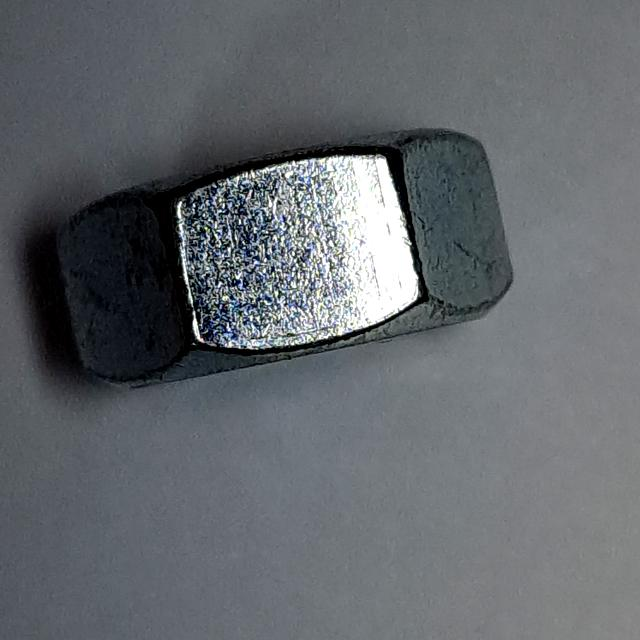Side_Excellent: (42, 115, 525, 411)
